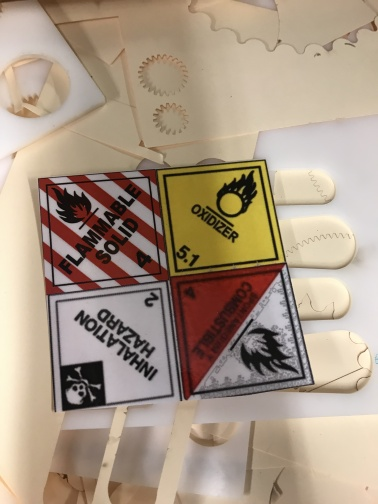FlammableSolid: (38, 170, 168, 296)
InhalationHazard: (48, 280, 179, 411)
Oxidizer: (157, 159, 285, 276)
SpontaneouslyCombustible: (172, 265, 314, 400)
